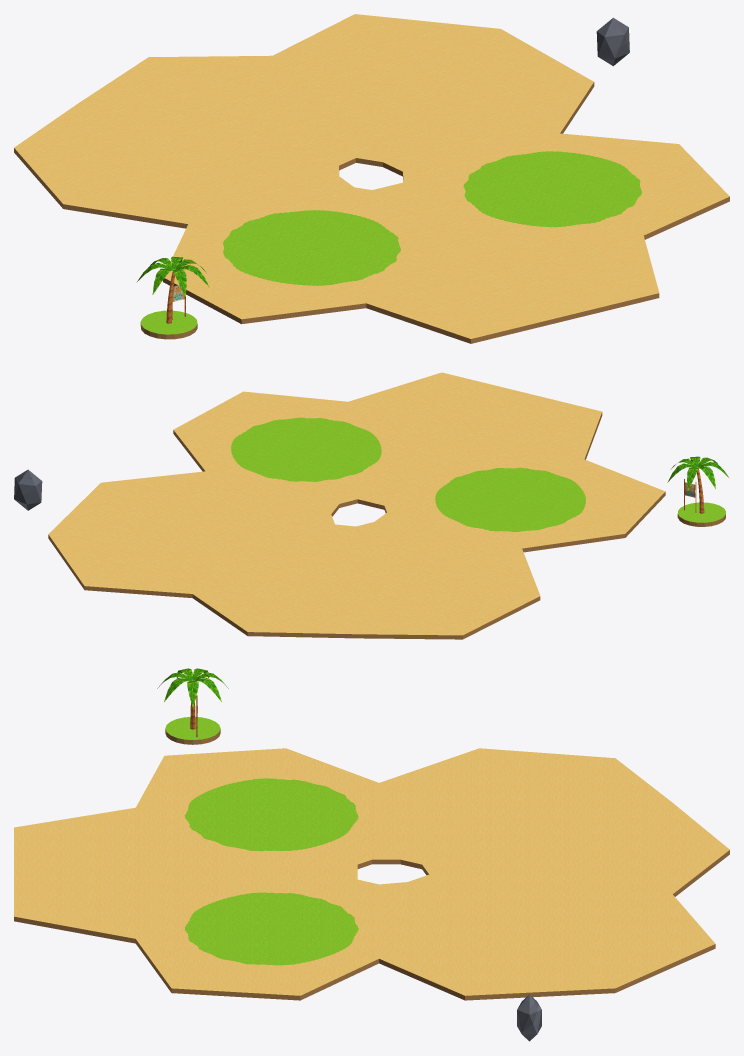
File: surface-18-C2sRcTKT.glb
3 views of the same model, one above another, from view 1: azimuth 30°, elevation 25°; view 2: azimuth 150°, elevation 25°; view 3: azimuth 270°, elevation 25° (orthographic). The views are drawn at different scales.
Visible parts, largest first — view 1: HI_Surface_18, FLC_Regions_18, HI_SceneryIslet_0.007, HI_Palm.006, HI_BasaltOutcrop.007; view 2: HI_Surface_18, FLC_Regions_18, HI_Palm.006, HI_SceneryIslet_0.007, HI_BasaltOutcrop.007; view 3: HI_Surface_18, FLC_Regions_18, HI_SceneryIslet_0.007, HI_Palm.006, HI_BasaltOutcrop.007.
Boxes of the visible parts, x1=… form: HI_Surface_18: x1=14, y1=14, x2=729, y2=343; FLC_Regions_18: x1=223, y1=151, x2=641, y2=285; HI_SceneryIslet_0.007: x1=140, y1=310, x2=197, y2=339; HI_Palm.006: x1=136, y1=256, x2=209, y2=323; HI_BasaltOutcrop.007: x1=596, y1=17, x2=629, y2=66; HI_Surface_18: x1=48, y1=372, x2=665, y2=639; FLC_Regions_18: x1=231, y1=417, x2=585, y2=531; HI_Palm.006: x1=667, y1=456, x2=728, y2=513; HI_SceneryIslet_0.007: x1=677, y1=502, x2=725, y2=526; HI_BasaltOutcrop.007: x1=14, y1=469, x2=42, y2=510; HI_Surface_18: x1=14, y1=748, x2=729, y2=1000; FLC_Regions_18: x1=184, y1=778, x2=358, y2=965; HI_SceneryIslet_0.007: x1=165, y1=717, x2=220, y2=744; HI_Palm.006: x1=157, y1=668, x2=228, y2=729; HI_BasaltOutcrop.007: x1=517, y1=994, x2=541, y2=1041.
Bounding box in the file's own units: 45.25 × 5.15 × 44.
7 materials, 6 textured.
